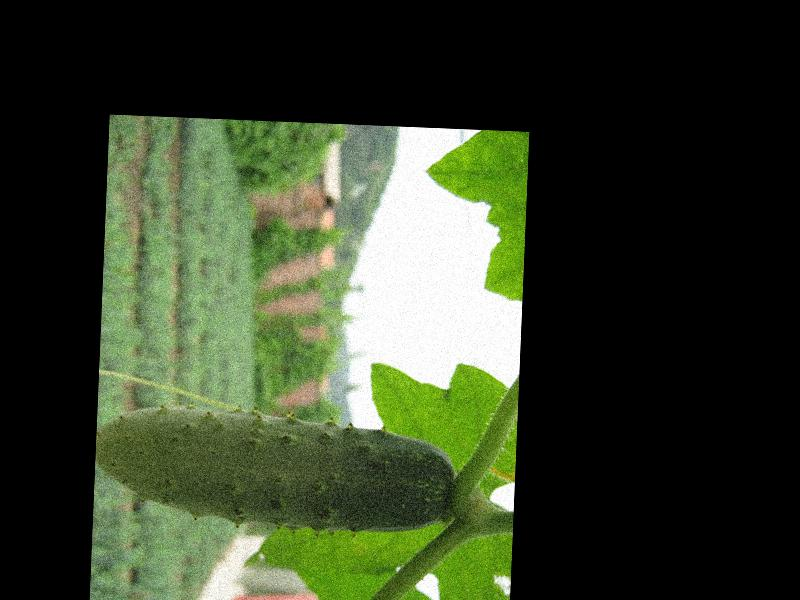Cucumber: (93, 405, 456, 535)
